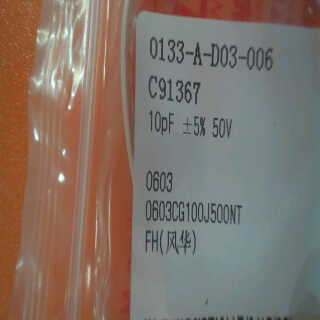10pF: (141, 105, 182, 139)
